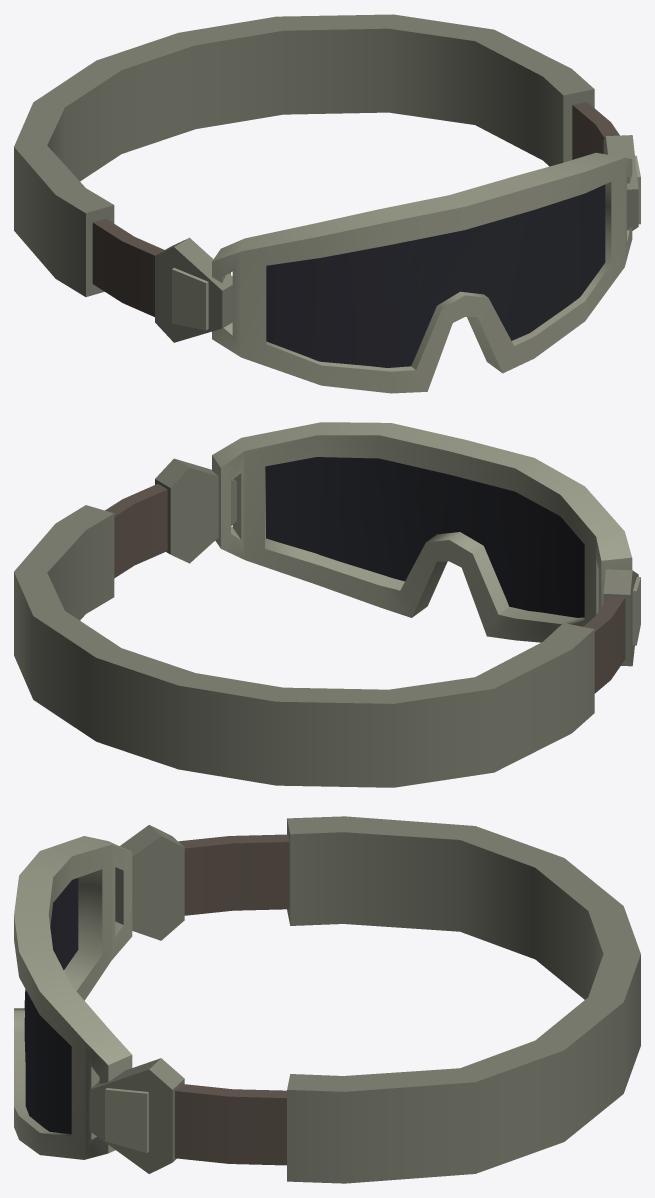
Rendered from GoggleA.fbx.
3 renders of one model, top to bottom at view 1: azimuth 30°, elevation 25°; view 2: azimuth 150°, elevation 25°; view 3: azimuth 270°, elevation 25°, orthographic. The views are drawn at different scales.
Parts seen in each view (by area): view 1: ColorA; view 2: ColorA; view 3: ColorA.
Part boxes in pixels (x1,y1,x2,y2): ColorA: [14, 14, 640, 393]; ColorA: [14, 422, 640, 787]; ColorA: [14, 816, 640, 1183].
Bounding box in the file's own units: 0.708 × 0.2318 × 0.6809.
1 material, 1 textured.
